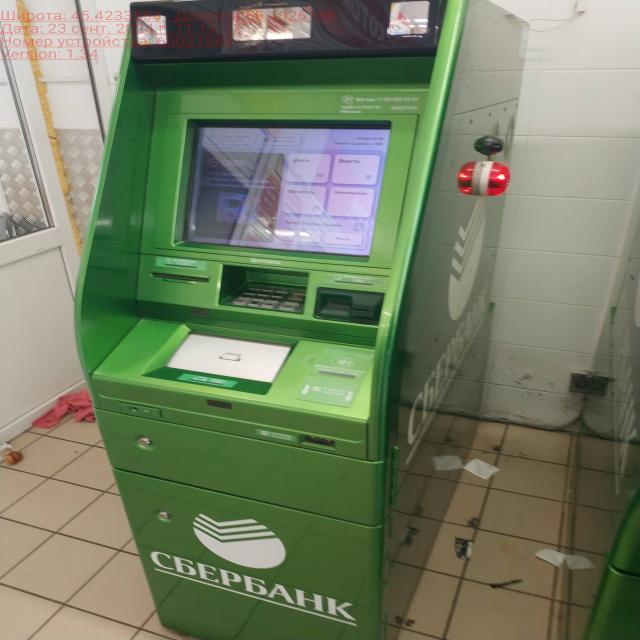bank: (75, 0, 526, 640)
